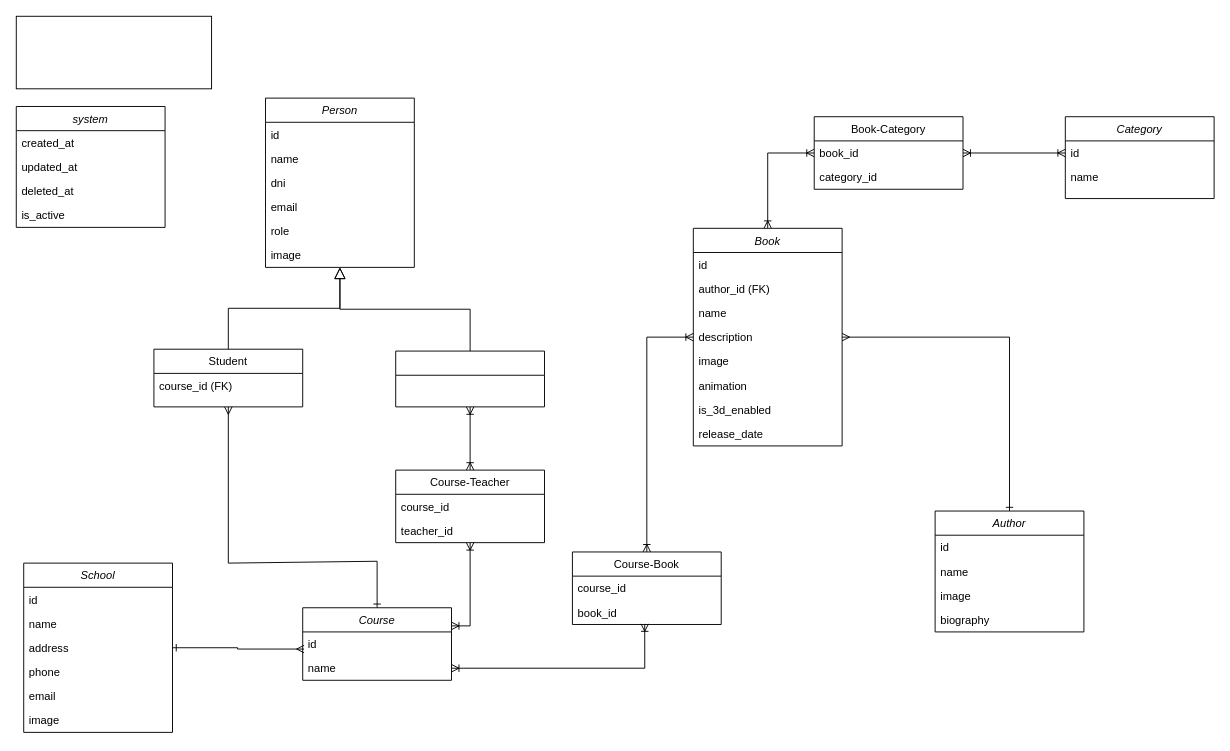
Some shapes in this 1230 by 751 pixel diagram are drawn without their labels. Here are the shapes that lost their labels. From the top down, the centre of each, then its label:
the point at 113,52: All classes will contain this system class values by default
the point at 470,378: Teacher
